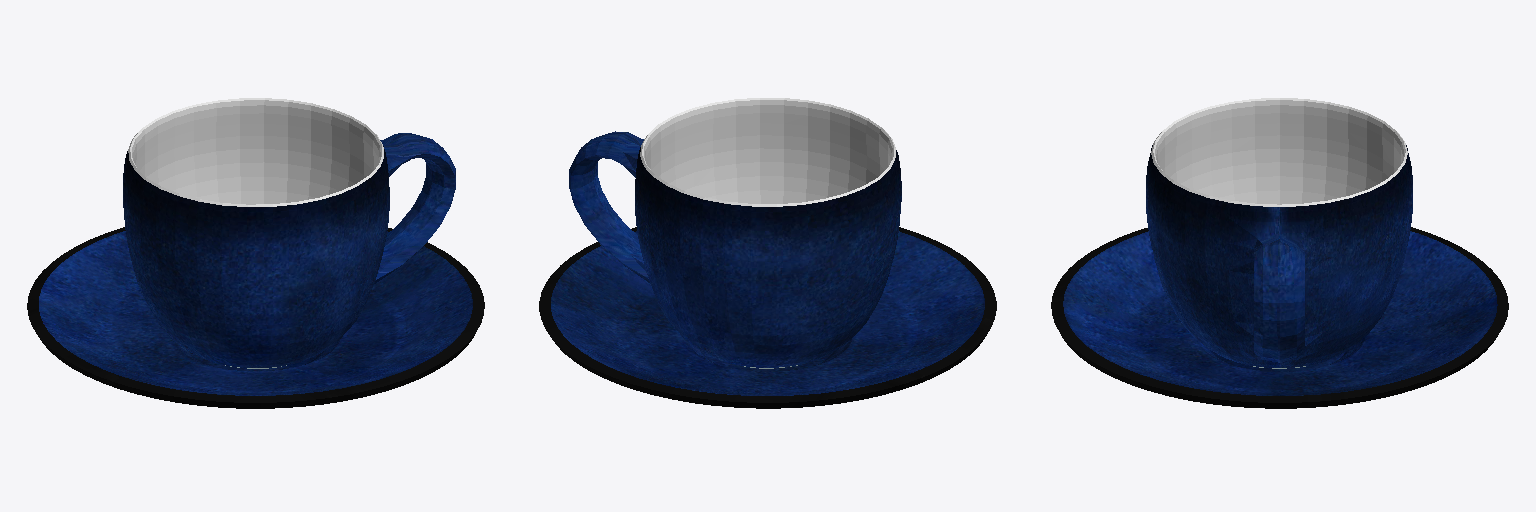
3 views of the same model, side by side, from view 1: azimuth 30°, elevation 25°; view 2: azimuth 150°, elevation 25°; view 3: azimuth 270°, elevation 25° (orthographic).
Visible parts, largest first — view 1: 13.0.114.0; view 2: 13.0.114.0; view 3: 13.0.114.0.
Boxes of the visible parts, <box> form: 13.0.114.0: <box>27,98,484,408</box>; 13.0.114.0: <box>539,98,996,408</box>; 13.0.114.0: <box>1051,98,1508,408</box>.
Size of the model in its own units: 12.04 by 6.09 by 12.04.
6 materials, 4 textured.